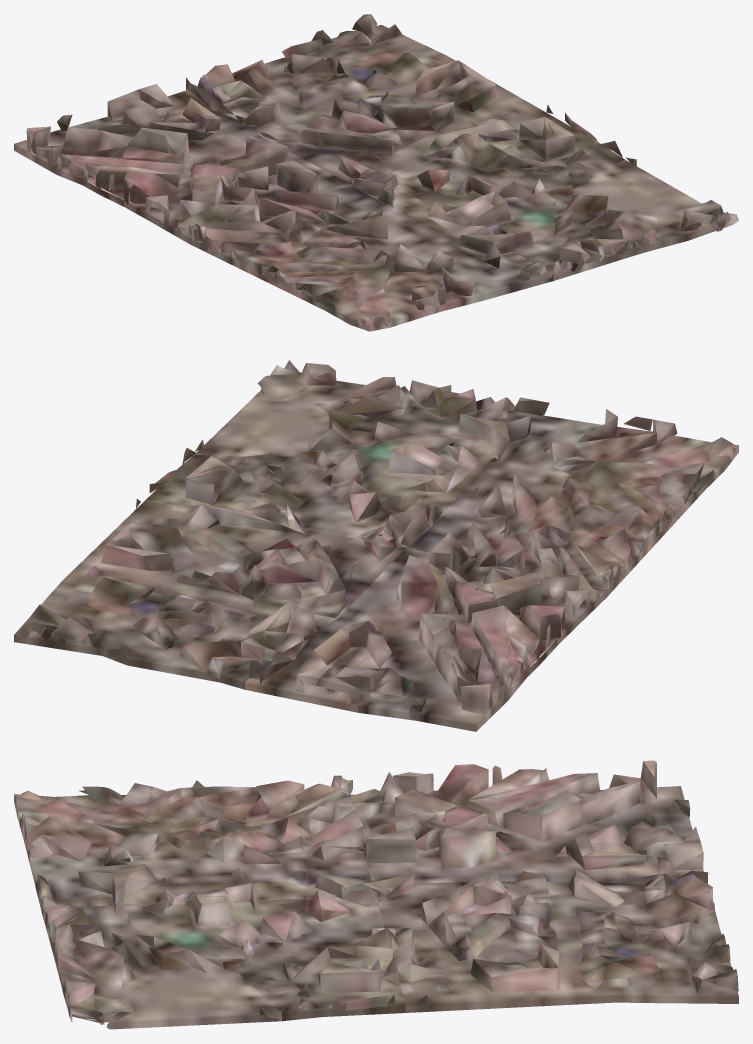
3 renders of one model, top to bottom at view 1: azimuth 30°, elevation 25°; view 2: azimuth 150°, elevation 25°; view 3: azimuth 270°, elevation 25°, orthographic. The views are drawn at different scales.
Visible parts, largest first — view 1: Mesh_0; view 2: Mesh_0; view 3: Mesh_0.
Part boxes in pixels (x1=…): Mesh_0: x1=14, y1=14, x2=738, y2=331; Mesh_0: x1=14, y1=360, x2=738, y2=731; Mesh_0: x1=14, y1=760, x2=738, y2=1029.
Size of the model in its own units: 535 by 52.03 by 659.
2 materials, 2 textured.
